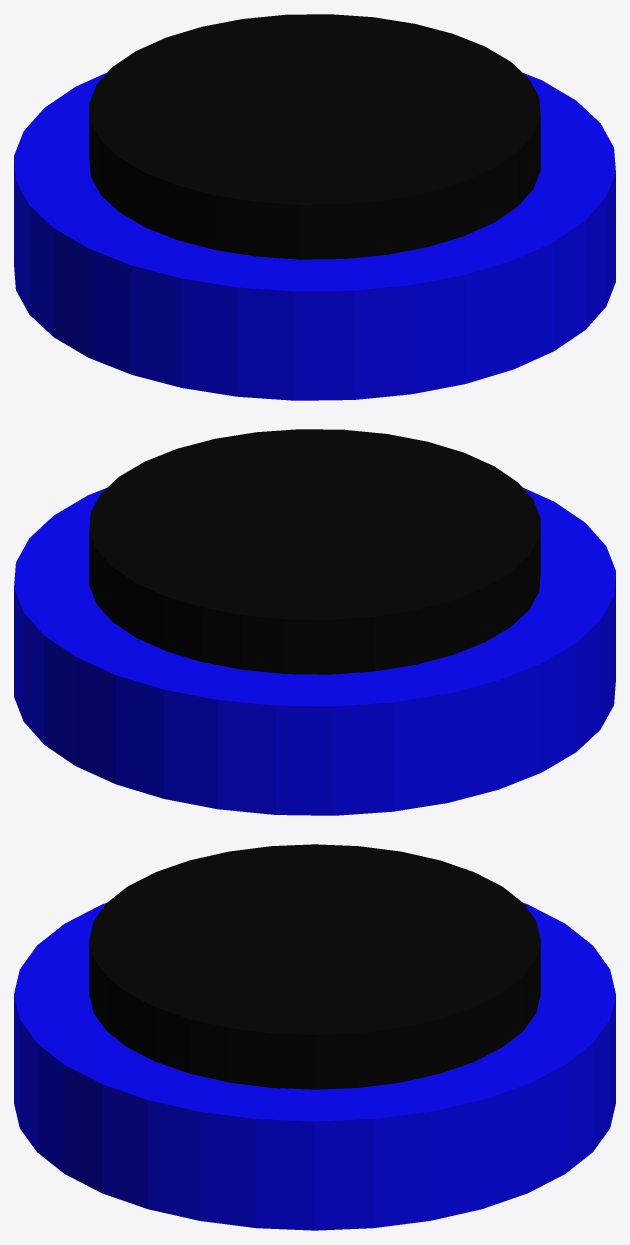
Rendered from BlueNote.obj.
The picture shows the model from 3 angles, top to bottom: view 1: azimuth 30°, elevation 25°; view 2: azimuth 150°, elevation 25°; view 3: azimuth 270°, elevation 25°; orthographic projection.
Parts seen in each view (by area): view 1: Base, Top; view 2: Base, Top; view 3: Base, Top.
Part boxes in pixels (x1,y1,x2,y2): Base: [14, 72, 615, 400]; Top: [89, 14, 540, 259]; Base: [14, 487, 615, 815]; Top: [89, 429, 540, 674]; Base: [14, 903, 615, 1230]; Top: [89, 844, 540, 1089].
Size of the model in its own units: 2 by 0.6 by 2.
